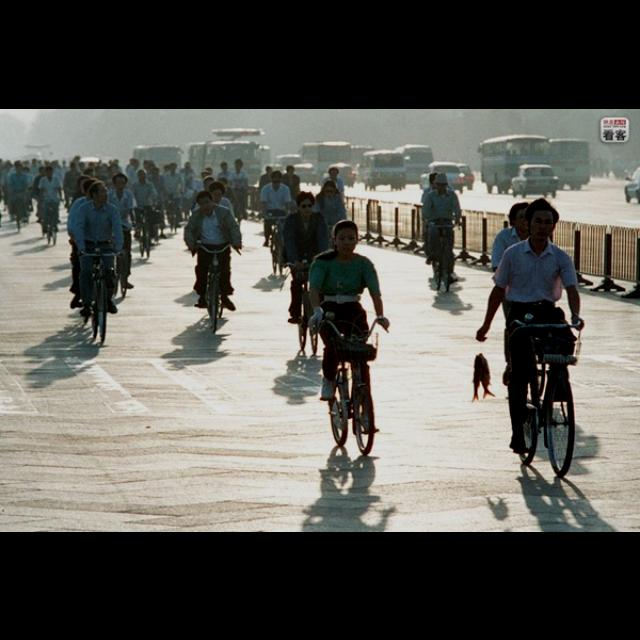Without Helmet: (523, 196, 561, 244), (326, 217, 359, 255)
